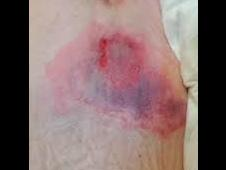Stage2: (42, 14, 185, 142)
